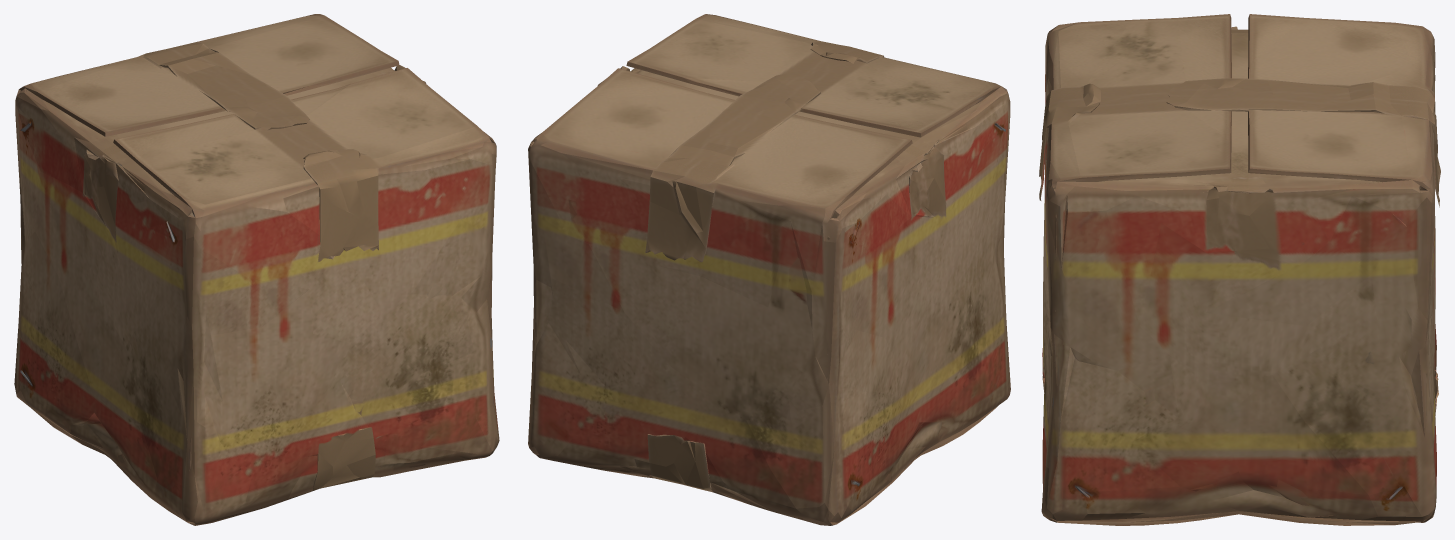
Rendered from scatolone_rosso.glb.
3 views of the same model, side by side, from view 1: azimuth 30°, elevation 25°; view 2: azimuth 150°, elevation 25°; view 3: azimuth 270°, elevation 25° (orthographic). The views are drawn at different scales.
Parts seen in each view (by area): view 1: Mesh_0; view 2: Mesh_0; view 3: Mesh_0.
Boxes of the visible parts, x1,y1,x2,y2 form: Mesh_0: (14, 14, 499, 525); Mesh_0: (528, 14, 1010, 525); Mesh_0: (1039, 14, 1440, 525).
Bounding box in the file's own units: 1.9 × 1.86 × 1.9.
1 material, 1 textured.
